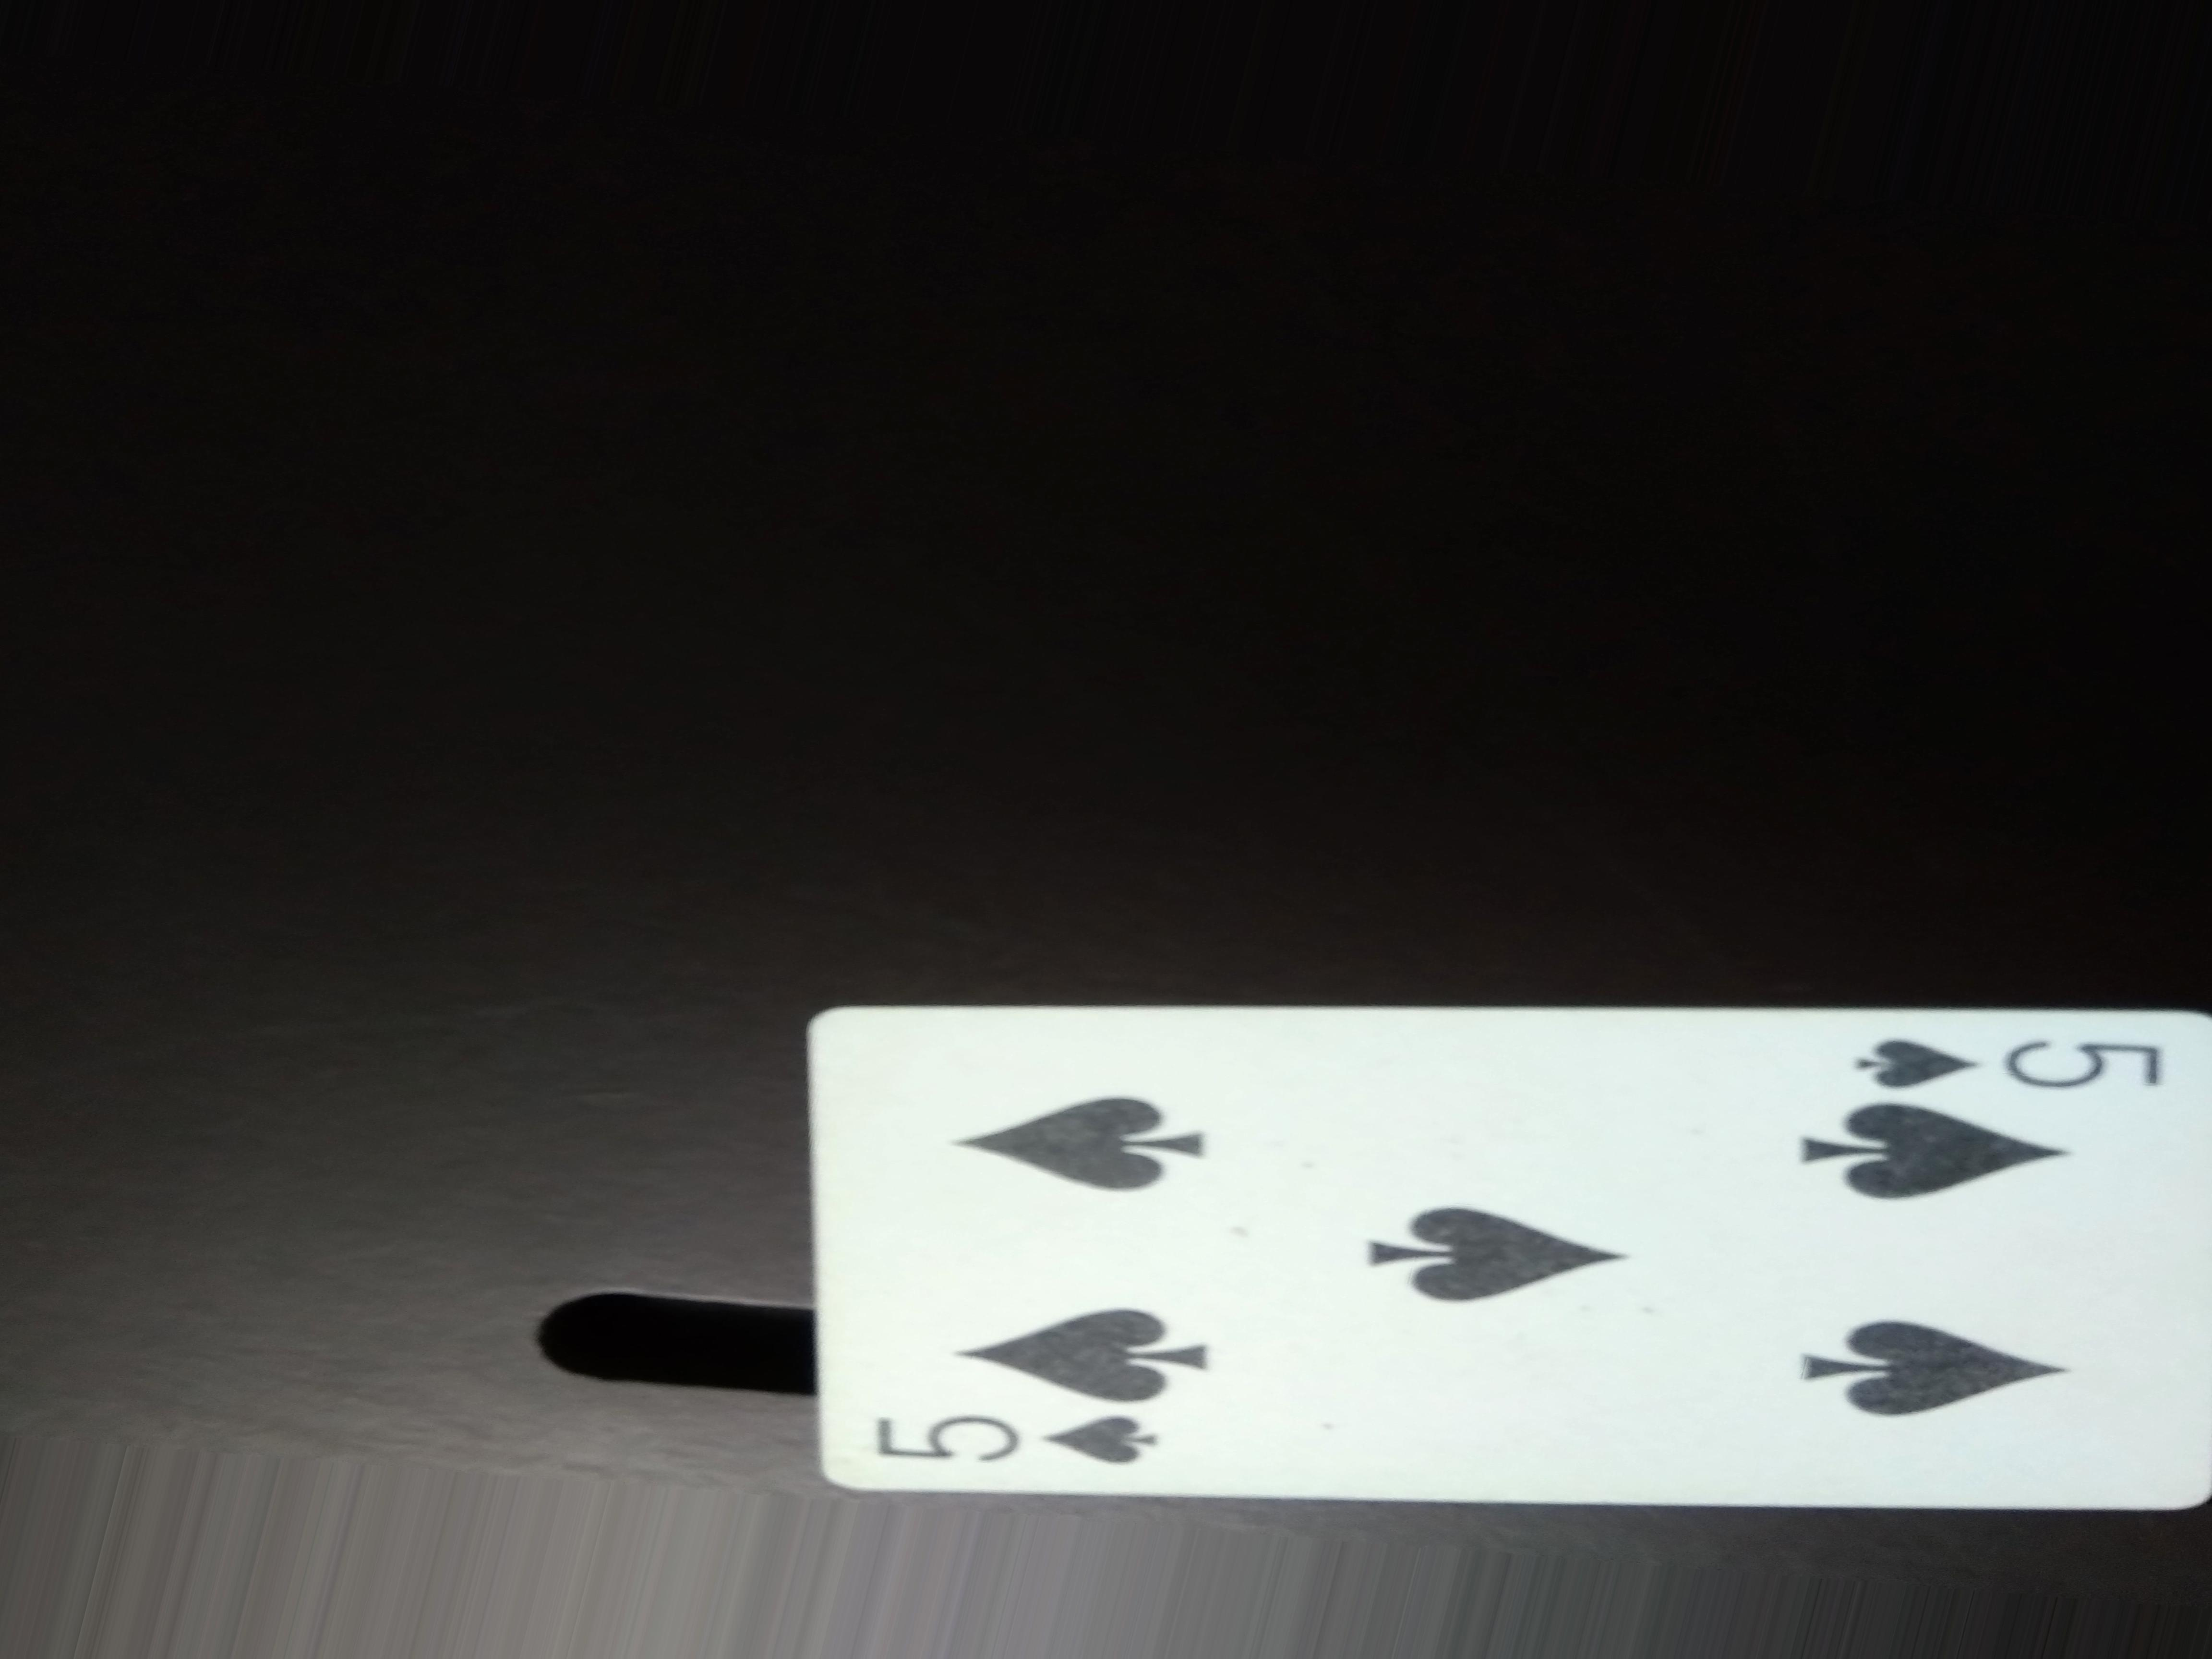5S: (834, 1403, 1169, 1495)
